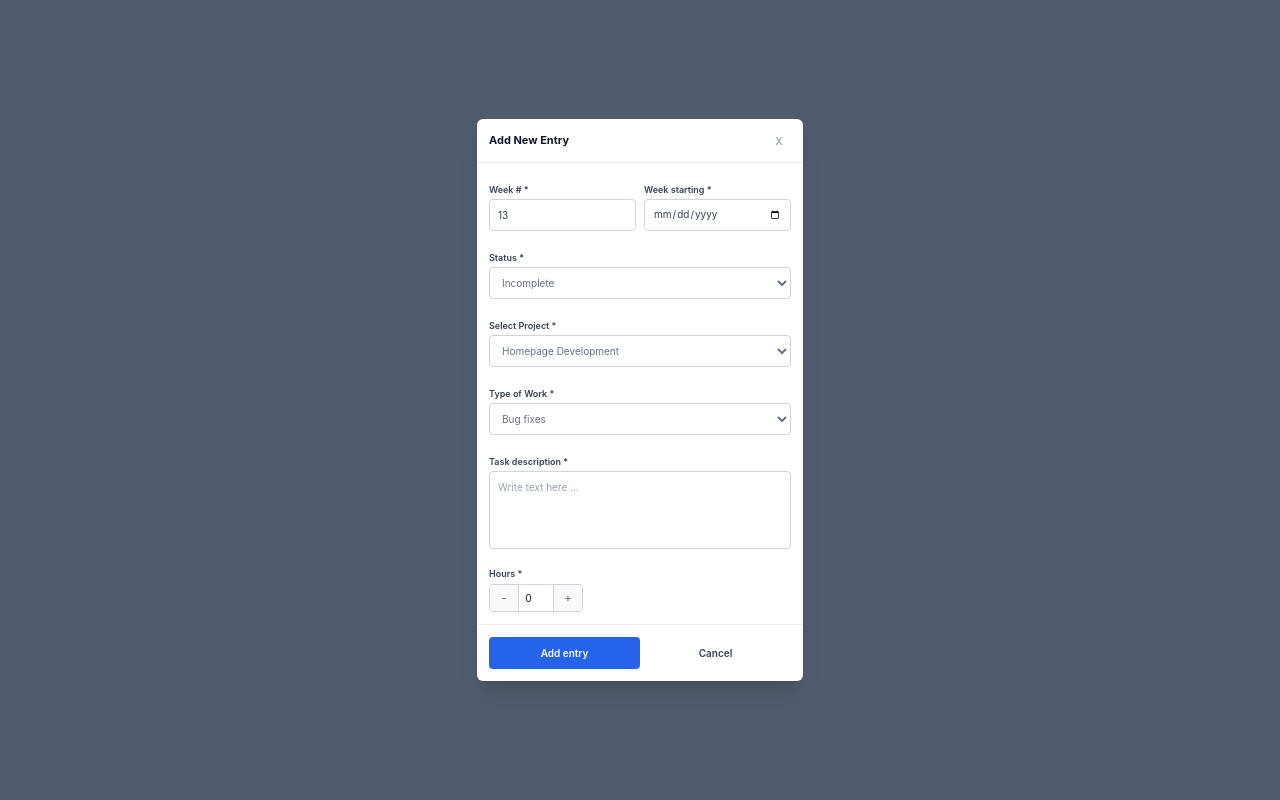
TimesheetModal › blocks submission and shows a validation error when the date is empty
Note: Brand-new entry starts with an empty date, so submitting is invalid.
Click the button "Add entry": (564,653) [489,637,640,669]
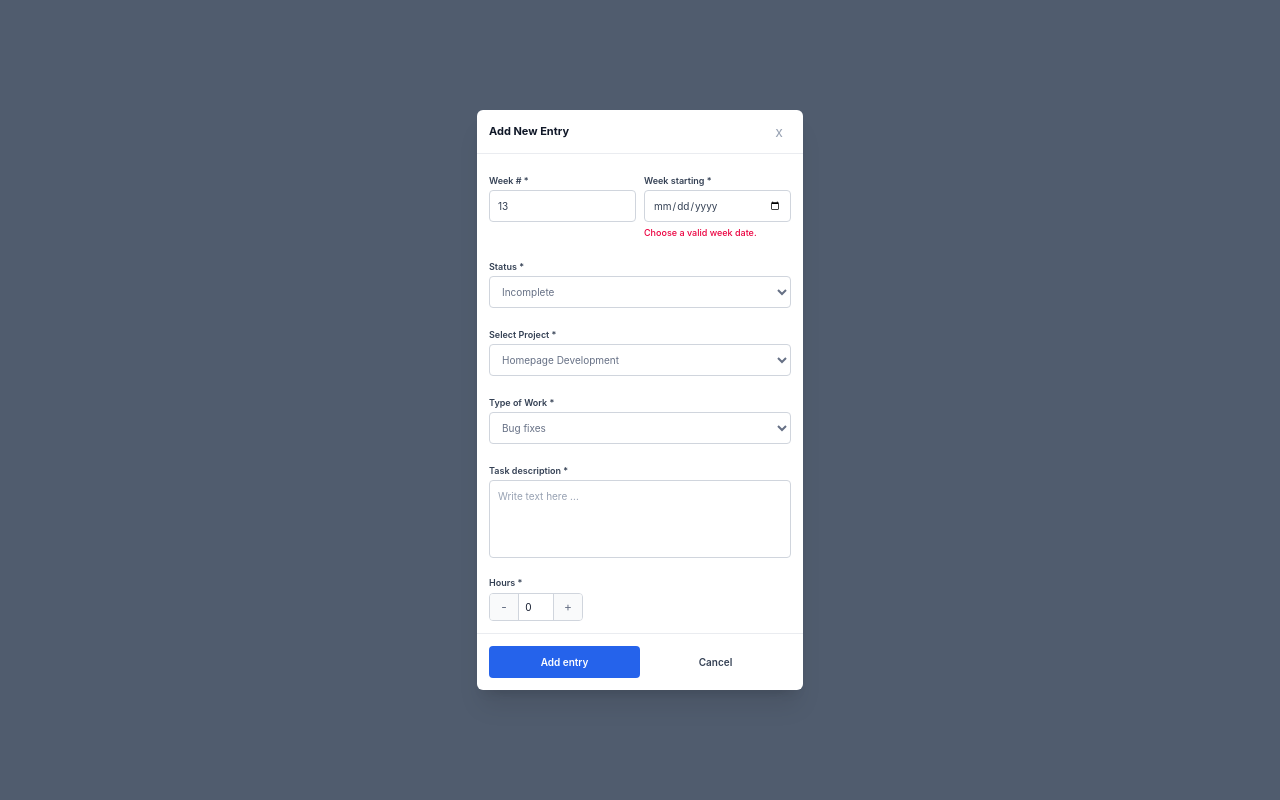
Result: the text "Choose a valid week date." is shown at [644,227,757,238]
